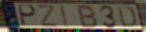3: (99, 5, 118, 30)
B: (77, 5, 100, 29)
D: (116, 6, 137, 29)
I: (58, 4, 70, 29)
P: (18, 4, 38, 28)
Z: (37, 5, 61, 28)
